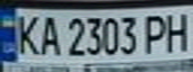0: (103, 14, 121, 56)
2: (63, 14, 87, 57)
3: (81, 14, 106, 57), (118, 12, 142, 56)
A: (36, 12, 63, 56)
H: (160, 9, 193, 53)
K: (12, 11, 42, 56)
P: (139, 11, 172, 55)
